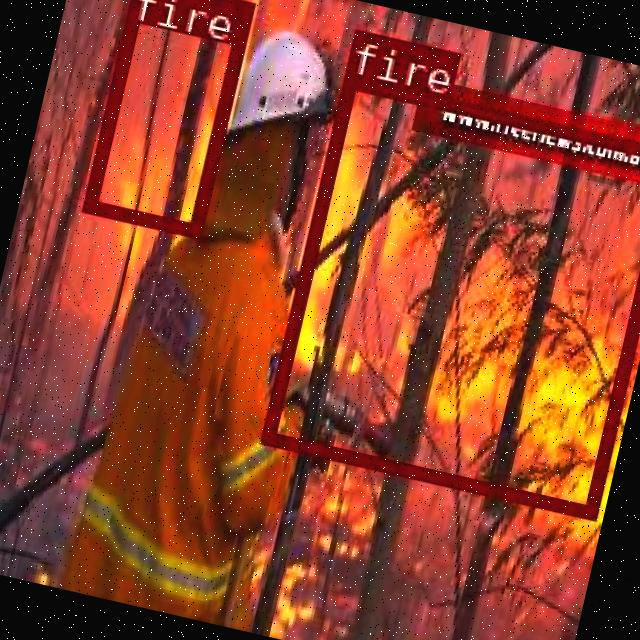fire: (257, 71, 640, 516), (81, 0, 252, 235)
